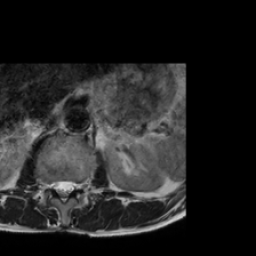CCS_normal: (59, 174, 67, 208)
LFS_normal: (75, 174, 82, 196)
LLS_normal: (67, 174, 75, 200)
RFS_normal: (45, 174, 52, 197)
RLS_normal: (52, 173, 59, 201)
